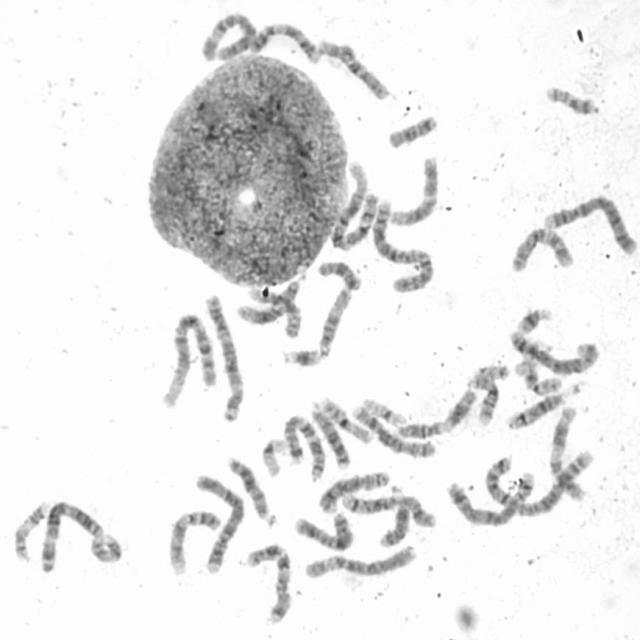A1: (157, 311, 220, 409), (327, 157, 378, 253)
A2: (480, 446, 596, 518), (368, 194, 435, 294)
A3: (36, 497, 117, 575), (202, 291, 247, 424)
B4: (540, 193, 638, 256), (190, 470, 248, 574)
B5: (444, 467, 536, 529), (507, 328, 599, 377)
C10: (314, 36, 393, 102), (507, 224, 577, 274)
C11: (392, 385, 481, 441), (547, 401, 589, 504)
C12: (384, 152, 440, 228), (235, 286, 288, 327)
C6: (302, 542, 420, 582), (197, 8, 260, 62)
C7: (242, 538, 294, 625), (280, 412, 328, 484)
C8: (350, 402, 437, 460), (315, 467, 393, 515)
C9: (229, 19, 323, 65), (163, 507, 224, 577)
D13: (224, 452, 279, 528), (308, 399, 353, 471)
D14: (504, 380, 585, 430), (339, 482, 399, 517)
D15: (315, 285, 353, 357), (279, 270, 307, 338)
E16: (316, 394, 375, 444), (469, 370, 501, 428)
E17: (10, 498, 50, 562), (88, 531, 125, 565)
E18: (385, 111, 440, 149), (314, 258, 362, 291)
F19: (359, 394, 408, 428), (258, 435, 288, 479)
F20: (541, 82, 599, 117), (523, 363, 565, 398)
G21: (512, 303, 555, 336), (276, 344, 324, 369)
G22: (512, 340, 553, 378), (470, 360, 511, 385)
X: (378, 494, 440, 550), (291, 508, 355, 552)
